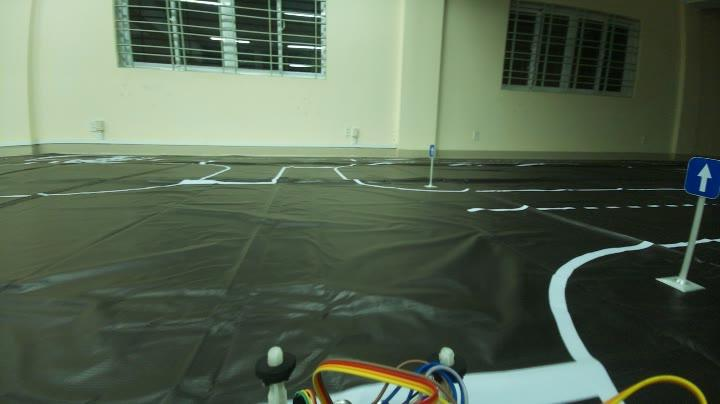onewayroad: (680, 150, 716, 200), (422, 141, 440, 157)
